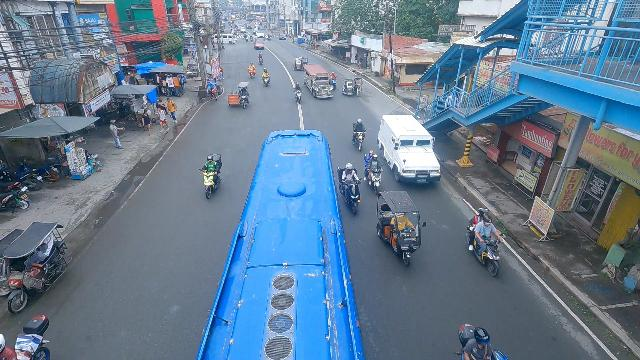car: (253, 40, 265, 50), (278, 34, 287, 40)
jeepney: (303, 63, 334, 100)
motorcycle: (463, 214, 505, 280), (454, 322, 511, 360), (334, 162, 364, 218), (197, 152, 224, 201), (363, 153, 384, 191), (350, 117, 367, 152), (261, 67, 272, 87), (294, 84, 302, 105), (247, 64, 257, 79), (258, 52, 264, 65), (244, 34, 248, 42), (250, 35, 254, 42)
van: (377, 113, 441, 183), (218, 34, 237, 44)
